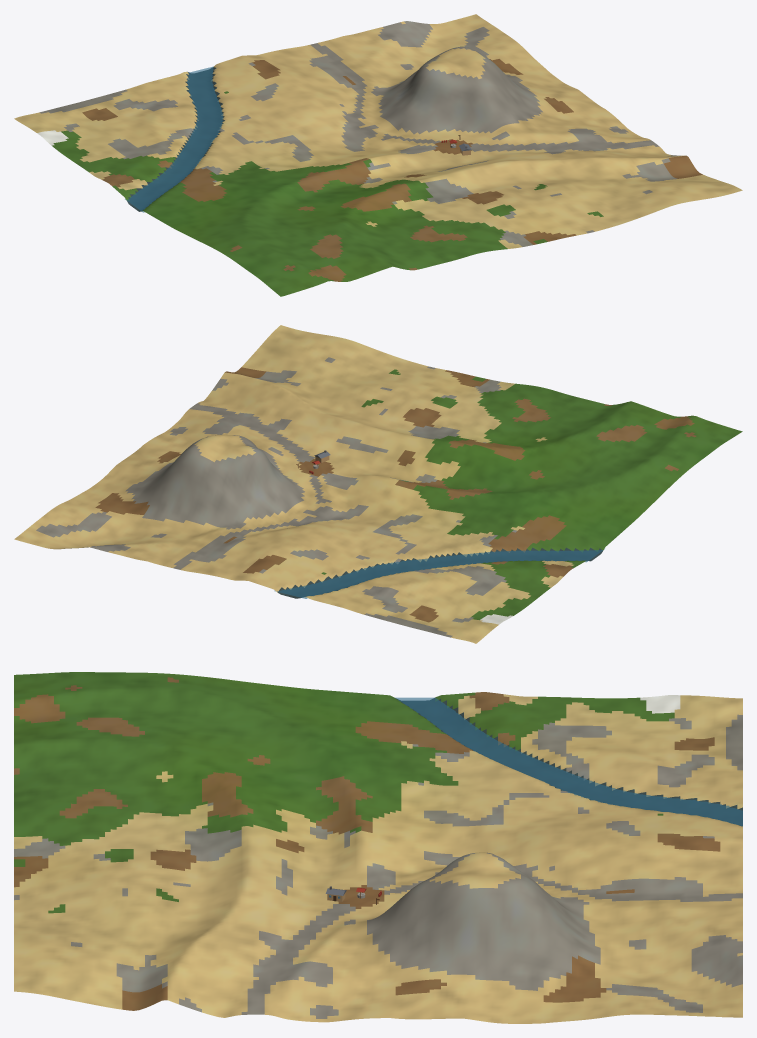
File: chunk_5_5.glb
3 renders of one model, top to bottom at view 1: azimuth 30°, elevation 25°; view 2: azimuth 150°, elevation 25°; view 3: azimuth 270°, elevation 25°, orthographic. The views are drawn at different scales.
Visible parts, largest first — view 1: Surface_Sand, Surface_Grass, Surface_Gravel, Surface_Dirt, Surface_Water, Water; view 2: Surface_Sand, Surface_Grass, Surface_Gravel, Surface_Dirt, Surface_Water, Water; view 3: Surface_Sand, Surface_Grass, Surface_Gravel, Surface_Dirt, Surface_Water, Water, Surface_Snow.
Boxes of the visible parts, bbox=[...] form: Surface_Sand: bbox=[14, 14, 742, 248]; Surface_Grass: bbox=[52, 91, 603, 296]; Surface_Gravel: bbox=[39, 21, 680, 246]; Surface_Dirt: bbox=[82, 59, 702, 281]; Surface_Water: bbox=[127, 67, 224, 211]; Water: bbox=[125, 66, 223, 212]; Surface_Sand: bbox=[14, 325, 573, 643]; Surface_Grass: bbox=[321, 369, 742, 620]; Surface_Gravel: bbox=[36, 357, 517, 637]; Surface_Dirt: bbox=[95, 367, 696, 622]; Surface_Water: bbox=[277, 547, 602, 598]; Water: bbox=[274, 549, 604, 598]; Surface_Sand: bbox=[14, 694, 742, 1023]; Surface_Grass: bbox=[14, 672, 674, 913]; Surface_Gravel: bbox=[14, 714, 742, 1018]; Surface_Dirt: bbox=[14, 677, 720, 1010]; Surface_Water: bbox=[396, 697, 742, 825]; Water: bbox=[395, 697, 742, 826]; Surface_Snow: bbox=[640, 695, 680, 713].
Bounding box in the file's own units: 256 × 30.33 × 256.
